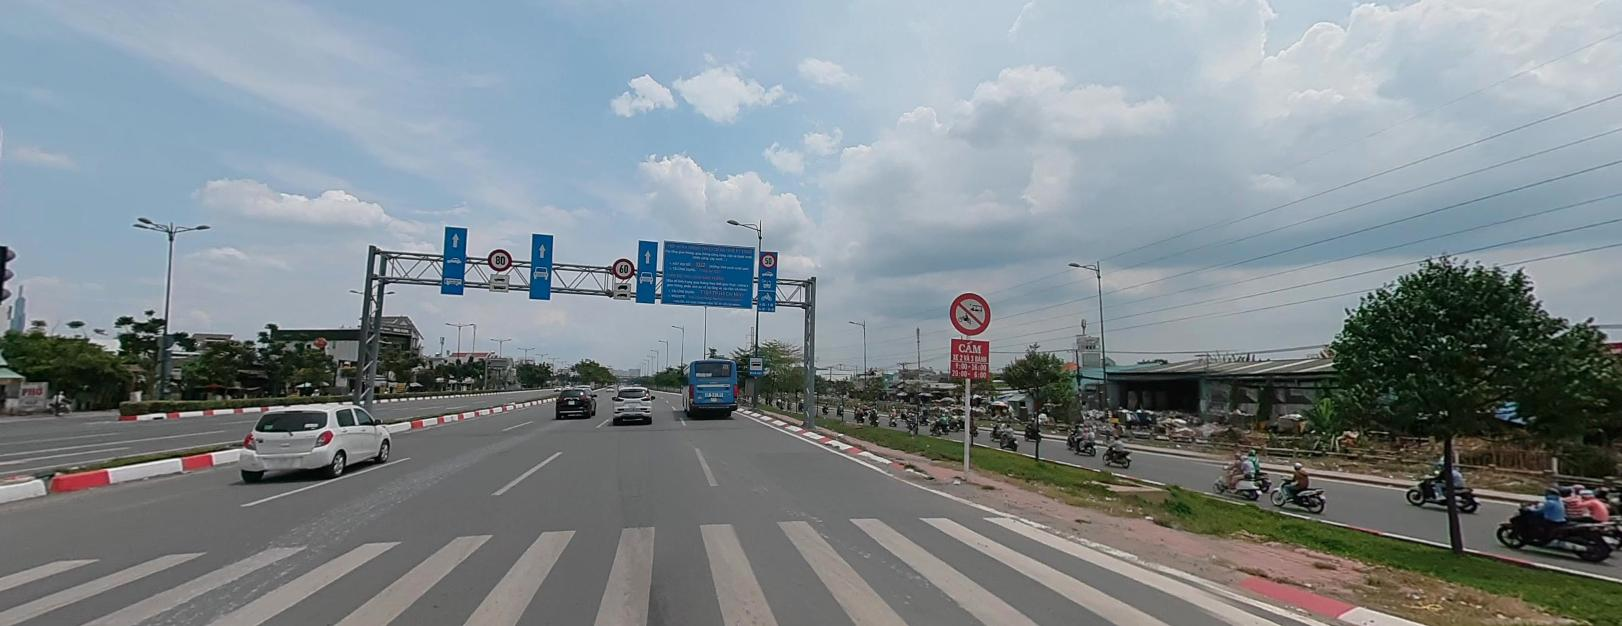Cam con lai: (948, 287, 990, 336)
Gioi han toc do: (486, 246, 513, 269), (613, 257, 634, 278), (761, 251, 775, 266)
